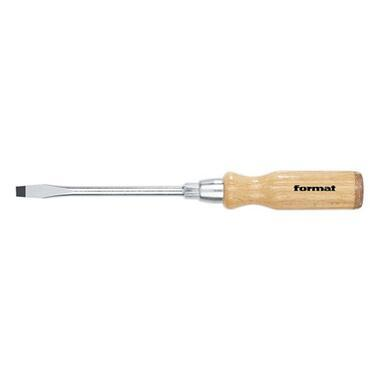Screwdriver: (4, 161, 368, 220)
